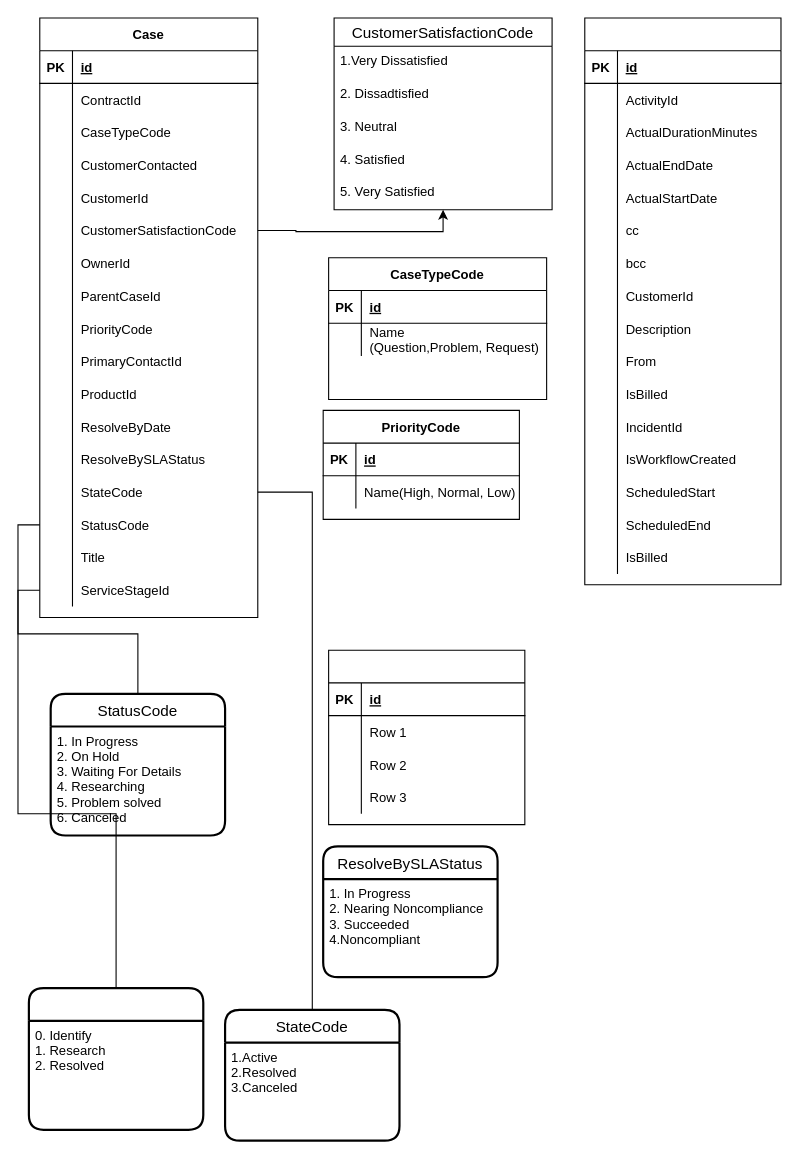
The diagram is 799 pixels wide and 1159 high, and some of its shapes have lost their labels. The shapes that lost their labels are listed below. From the top down, each one's box as (x1, y1, x2, y2) in pixels, then its label:
(584, 17, 781, 585): IncidentResolution
(328, 649, 525, 825): Customer
(27, 986, 204, 1130): ServiceStage
